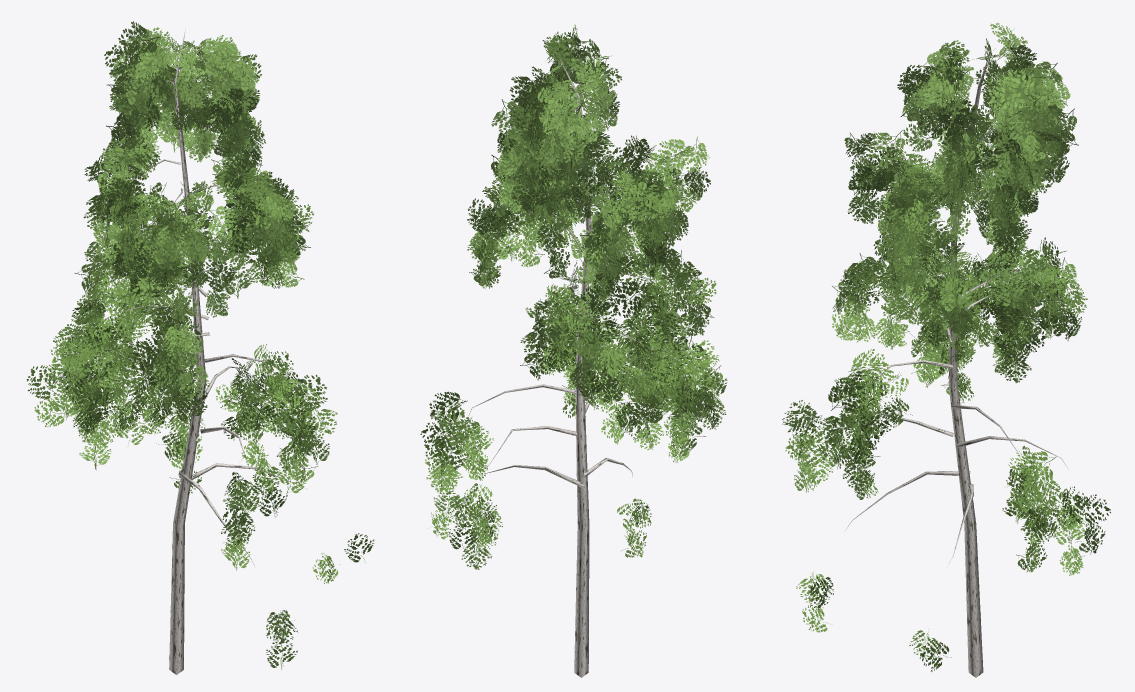
Rendered from birch_tree_1_lod2.gltf.
3 renders of one model, left to right at view 1: azimuth 30°, elevation 25°; view 2: azimuth 150°, elevation 25°; view 3: azimuth 270°, elevation 25°, orthographic.
Visible parts, largest first — view 1: birch_tree_1_lod2; view 2: birch_tree_1_lod2; view 3: birch_tree_1_lod2.
Boxes of the visible parts, x1,y1,x2,y2 form: birch_tree_1_lod2: (26, 21, 374, 674); birch_tree_1_lod2: (420, 24, 727, 677); birch_tree_1_lod2: (782, 22, 1110, 677).
Size of the model in its own units: 4.35 by 7.92 by 3.9.
Materials: 2 (2 with a texture image).
